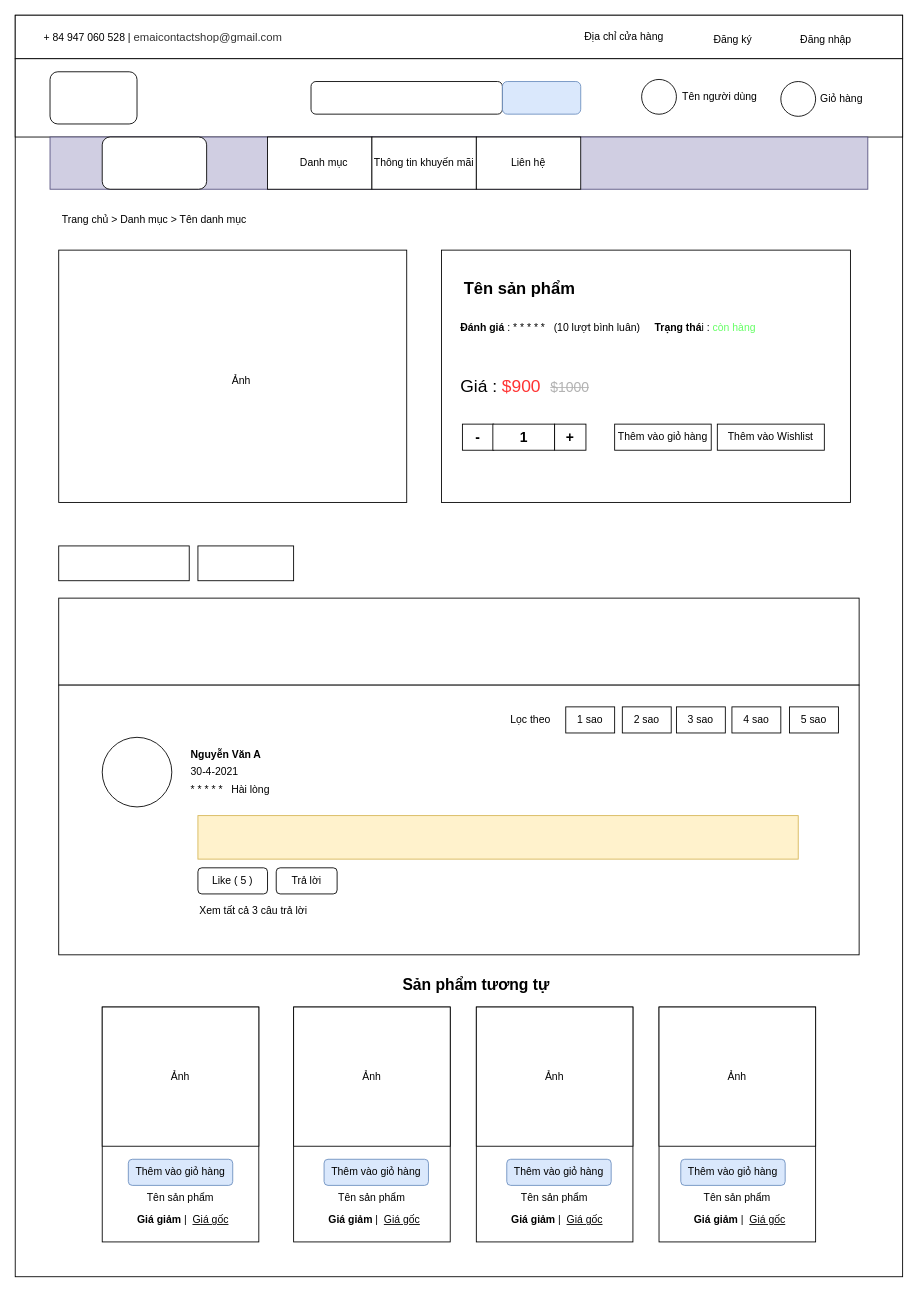
Some shapes in this 918 by 1292 pixel diagram are drawn without their labels. The shapes that lost their labels are listed below. From the top down, each one's centre as x and y in pixels, then its label:
pixel 93 97: Logo shop
pixel 541 97: Tìm kiếm
pixel 154 162: Trang chủ
pixel 123 563: Thông tin sản phẩm
pixel 245 563: BÌnh luận
pixel 458 641: Mô tả sản phẩm tại đây
pixel 497 837: Nội dung bình luận
